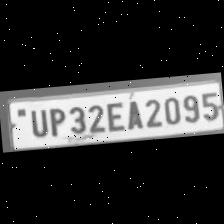0: (159, 92, 181, 125)
2: (140, 94, 164, 128), (83, 99, 106, 134)
3: (64, 100, 87, 134)
5: (198, 88, 221, 122)
9: (180, 90, 200, 122)
A: (122, 96, 144, 130)
E: (103, 97, 126, 132)
P: (44, 104, 67, 136)
U: (24, 105, 48, 138)
